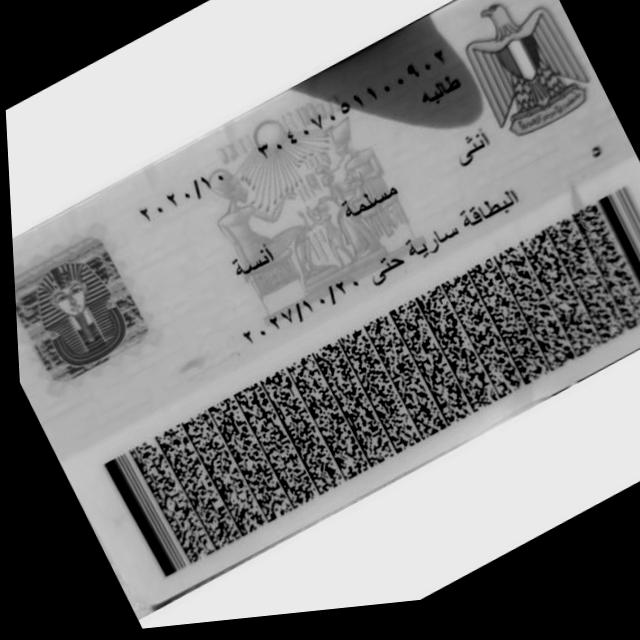back: (13, 0, 640, 606)
